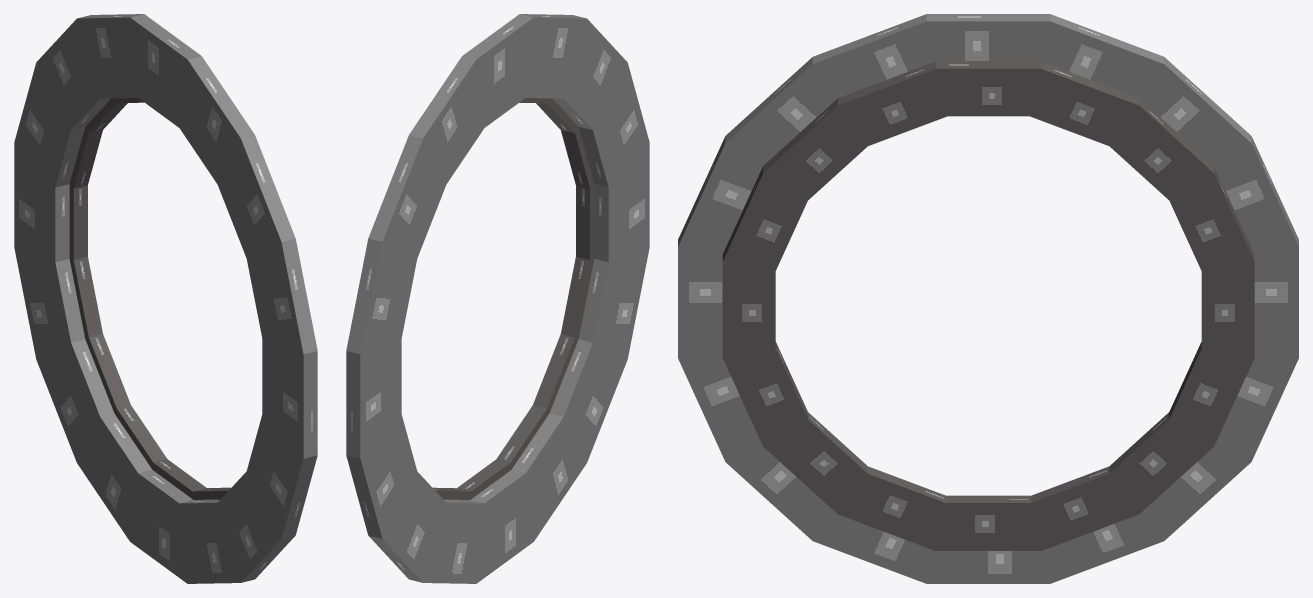
File: hublou.fbx
The picture shows the model from 3 angles, left to right: view 1: azimuth 30°, elevation 25°; view 2: azimuth 150°, elevation 25°; view 3: azimuth 270°, elevation 25°; orthographic projection. The views are drawn at different scales.
Parts seen in each view (by area): view 1: cuboid_31, cuboid_32, cuboid_27, cuboid_21, cuboid_20, cuboid_17, cuboid_30, cuboid_22, cuboid_29, cuboid_24, cuboid_26, cuboid_25 (+11 smaller); view 2: cuboid_24, cuboid_20, cuboid_23, cuboid_28, cuboid_27, cuboid_25, cuboid_18, cuboid_22, cuboid_26, cuboid_32, cuboid_29, cuboid_19 (+11 smaller); view 3: cuboid_23, cuboid_4, cuboid_30, cuboid_5, cuboid_1, cuboid, cuboid_12, cuboid_26, cuboid_6, cuboid_13, cuboid_24, cuboid_32 (+20 smaller).
Boxes of the visible parts, x1=… form: cuboid_31: x1=244, y1=238, x2=317, y2=354; cuboid_32: x1=212, y1=135, x2=295, y2=272; cuboid_27: x1=262, y1=324, x2=317, y2=458; cuboid_21: x1=36, y1=328, x2=114, y2=462; cuboid_20: x1=14, y1=143, x2=69, y2=276; cuboid_17: x1=77, y1=407, x2=152, y2=541; cuboid_30: x1=174, y1=56, x2=254, y2=194; cuboid_22: x1=14, y1=246, x2=85, y2=359; cuboid_29: x1=244, y1=405, x2=317, y2=538; cuboid_24: x1=36, y1=19, x2=110, y2=135; cuboid_26: x1=130, y1=14, x2=201, y2=133; cuboid_25: x1=14, y1=63, x2=84, y2=197; cuboid_24: x1=368, y1=135, x2=451, y2=272; cuboid_20: x1=346, y1=324, x2=401, y2=458; cuboid_23: x1=409, y1=56, x2=491, y2=193; cuboid_28: x1=549, y1=328, x2=627, y2=462; cuboid_27: x1=594, y1=143, x2=649, y2=276; cuboid_25: x1=346, y1=238, x2=418, y2=354; cuboid_18: x1=511, y1=406, x2=586, y2=541; cuboid_22: x1=346, y1=415, x2=420, y2=538; cuboid_26: x1=462, y1=14, x2=533, y2=132; cuboid_32: x1=553, y1=19, x2=627, y2=135; cuboid_29: x1=578, y1=247, x2=649, y2=359; cuboid_19: x1=471, y1=470, x2=533, y2=583; cuboid_23: x1=1032, y1=14, x2=1164, y2=103; cuboid_4: x1=1021, y1=61, x2=1139, y2=149; cuboid_30: x1=812, y1=14, x2=943, y2=103; cuboid_5: x1=935, y1=61, x2=1041, y2=116; cuboid_1: x1=1021, y1=466, x2=1138, y2=550; cuboid: x1=838, y1=466, x2=955, y2=550; cuboid_12: x1=838, y1=61, x2=955, y2=149; cuboid_26: x1=926, y1=14, x2=1050, y2=64; cuboid_6: x1=1102, y1=98, x2=1214, y2=206; cuboid_13: x1=763, y1=98, x2=874, y2=206; cuboid_24: x1=1131, y1=57, x2=1251, y2=173; cuboid_32: x1=725, y1=57, x2=845, y2=173.
Size of the model in its own units: 12.5 by 220 by 220.
2 materials, 2 textured.
